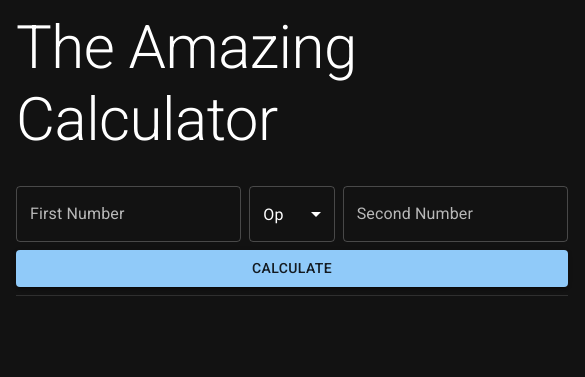
Test: example to-do app › subtract two integers
Type "3" into the field with id "first". click: (129, 214)
box: x1=16 y1=186 x2=241 y2=242
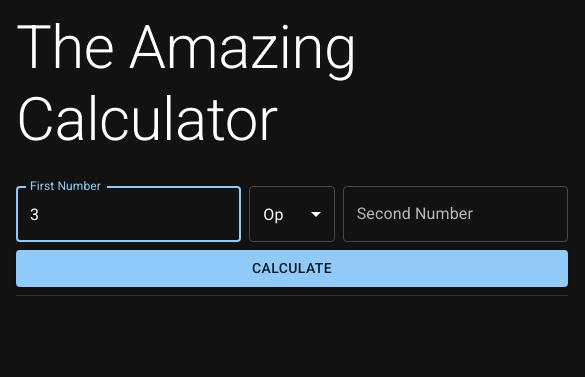
Type "9" into the field with id "second". click: (456, 214)
box: x1=343 y1=186 x2=568 y2=242
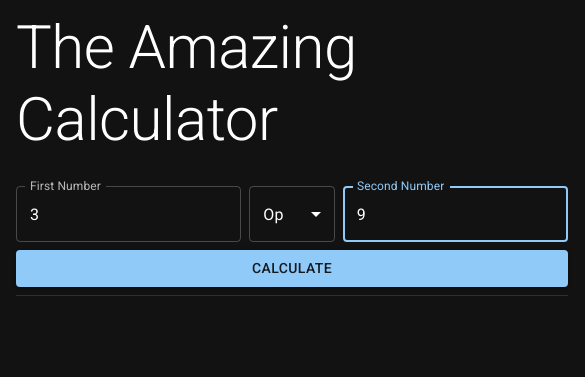
Select "-" in the dropdown with id "operation". click: (292, 214)
box: x1=249 y1=186 x2=334 y2=242
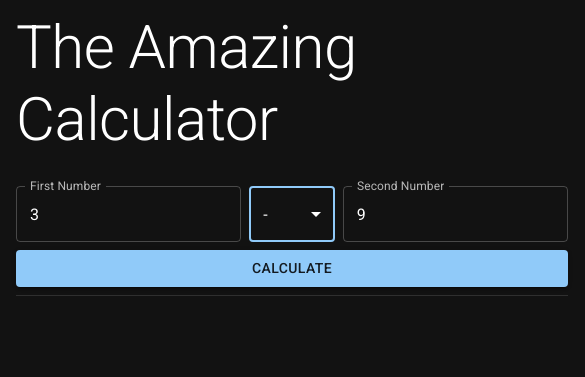
Click the button "Calculate". click: (292, 269)
box: x1=16 y1=250 x2=568 y2=287
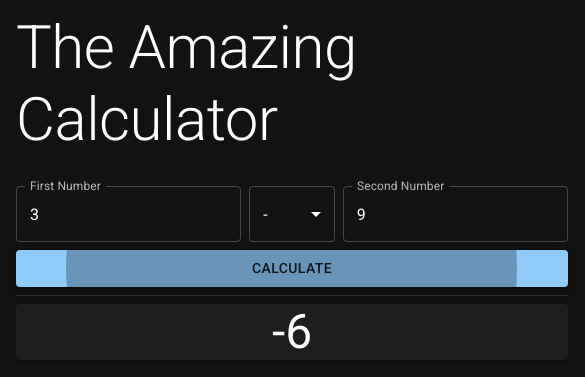
Check: the heading with id "result" reads "-6", box x1=272 y1=303 x2=312 y2=360
